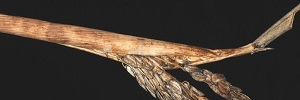RiceSheathBrownRot: (130, 33, 174, 89)
